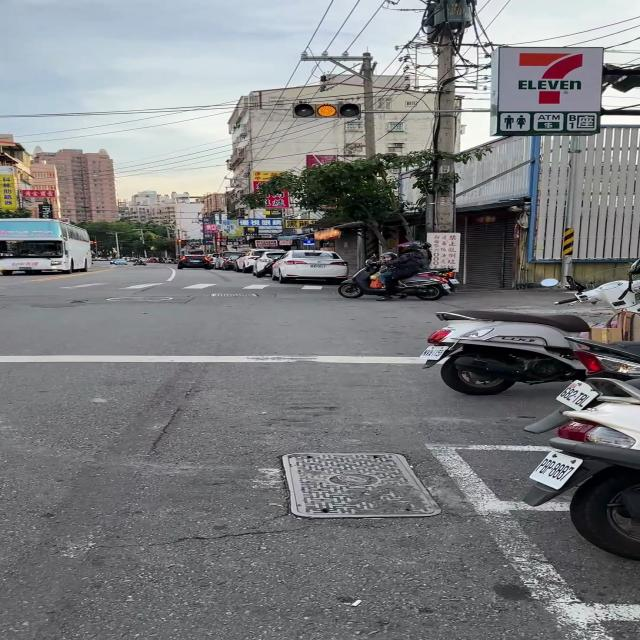bus: (0, 219, 93, 275)
car: (271, 250, 349, 282), (176, 255, 212, 269)
crosswalk: (53, 282, 326, 290)
motocycle: (421, 310, 589, 395), (338, 260, 384, 298), (395, 270, 446, 300)
